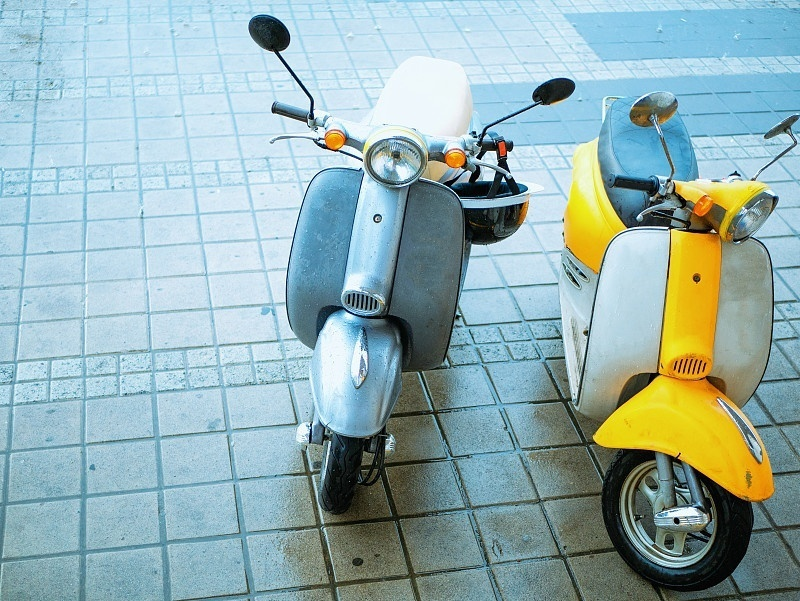non-vehicle: (553, 82, 771, 601), (282, 52, 514, 528)
